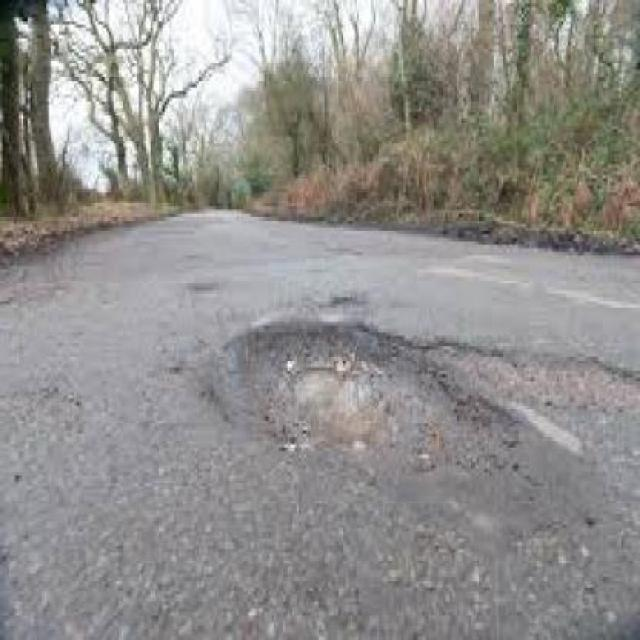pothole: (220, 308, 640, 472)
